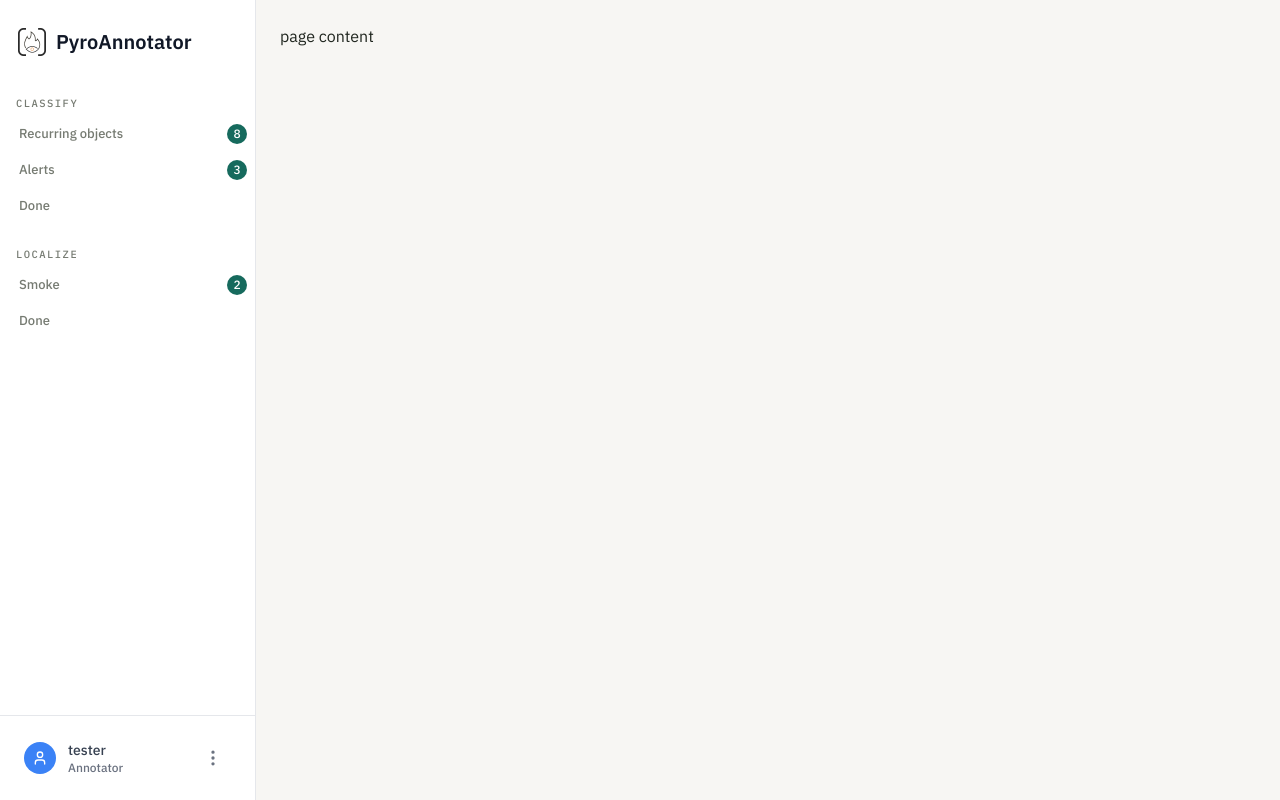
Test: AppLayout sidebar navigation › closes the user menu when clicking outside of it
The image size is (1280, 800).
Click the button named "open user menu" at (213, 758), box [195,740,231,776]
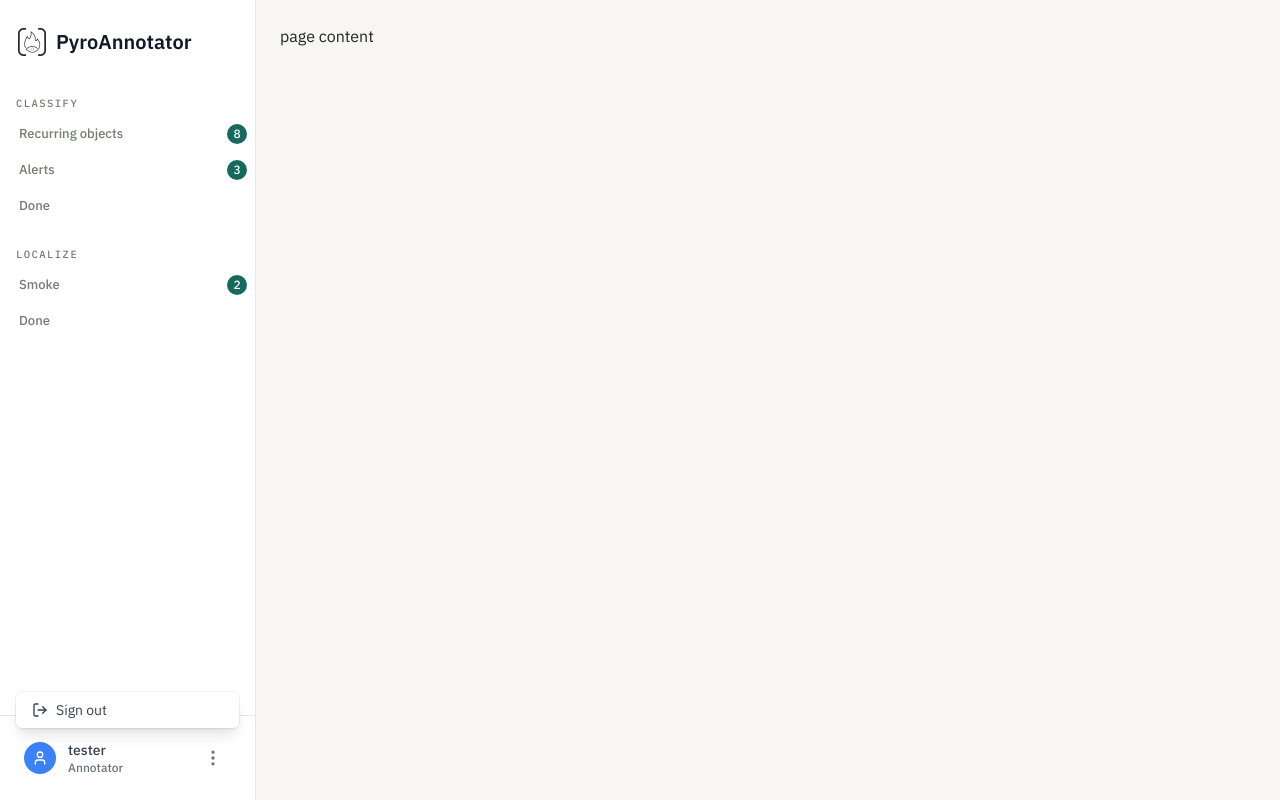
Expected: the menu item "Sign out" is shown, [16,692,239,728]
Click the element that starts with "PyroAnnotator" at (632, 400), box [0,0,1265,799]
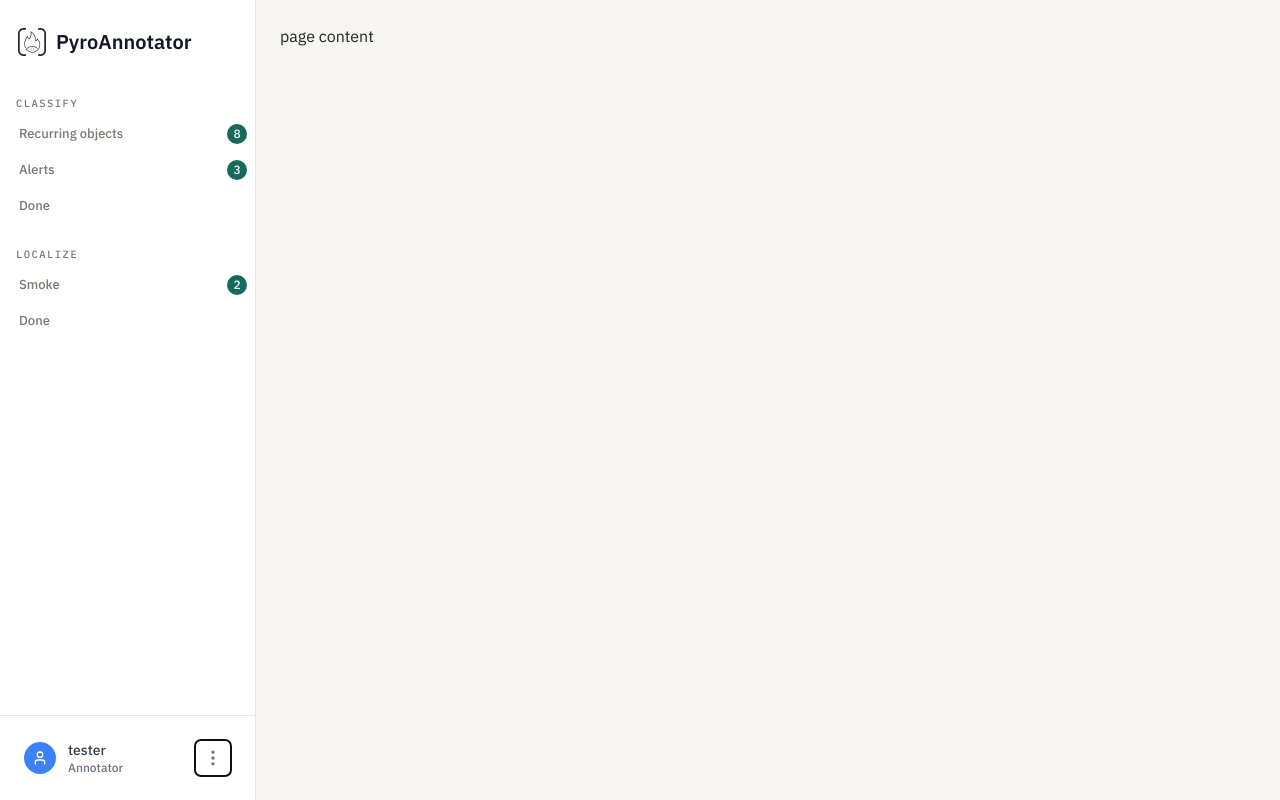
Expected: the menu item "Sign out" is gone
